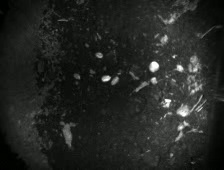corn: (146, 58, 161, 75), (93, 48, 105, 59), (110, 74, 121, 85), (70, 71, 82, 81), (100, 73, 113, 82)
